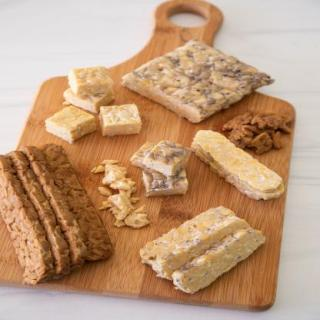Tempe: (139, 206, 269, 296)
